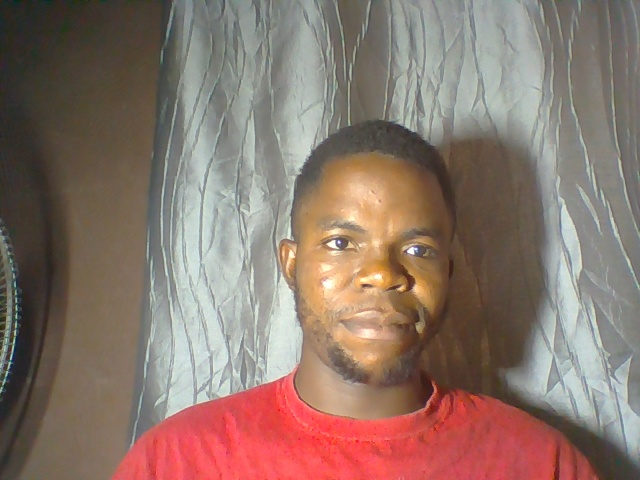MaskOff: (275, 118, 465, 397)
